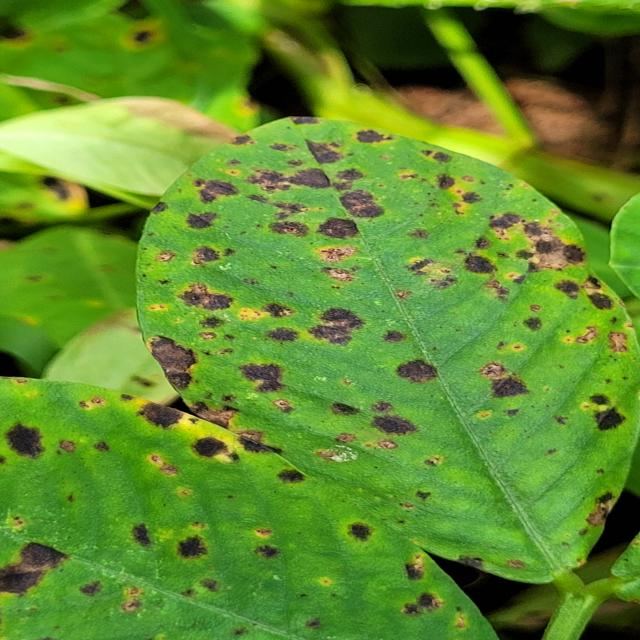Ground nut_tikka leaf spot: (141, 116, 640, 573), (3, 376, 505, 640)
